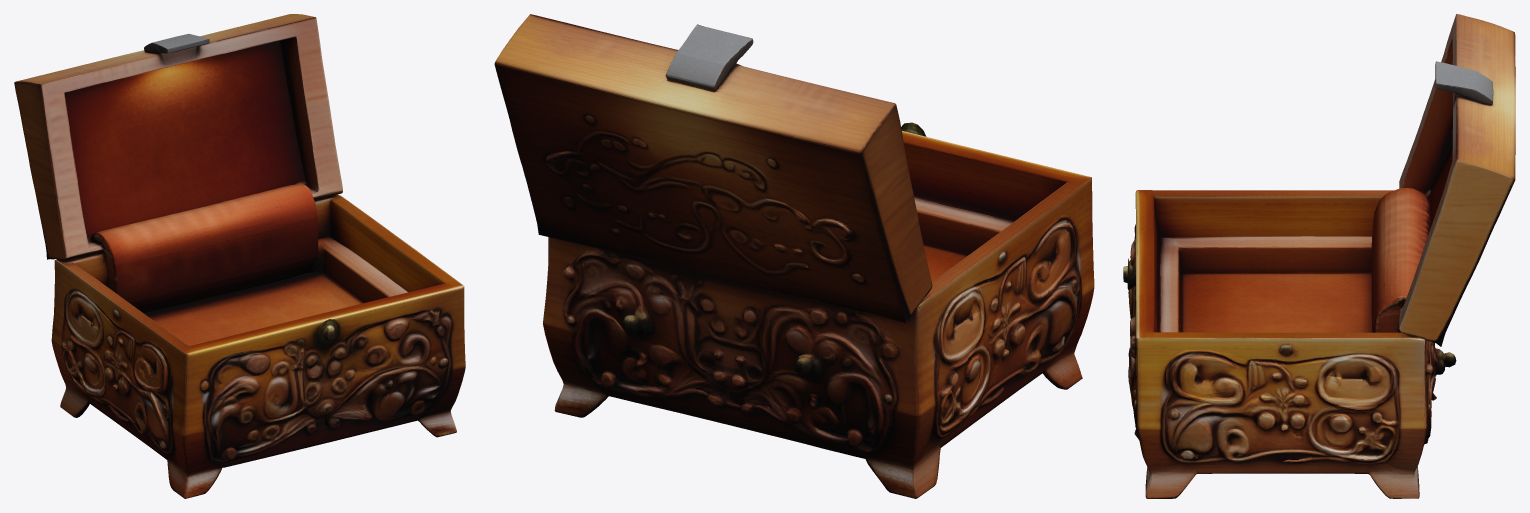
The model's file is wooden-musical-jewelry-box-rustic.jpeg.glb.
The picture shows the model from 3 angles, left to right: view 1: azimuth 30°, elevation 25°; view 2: azimuth 150°, elevation 25°; view 3: azimuth 270°, elevation 25°; orthographic projection. The views are drawn at different scales.
Parts seen in each view (by area): view 1: world; view 2: world; view 3: world.
Part boxes in pixels (box(x1,y1,x2,y2)): world: box(14, 14, 465, 498); world: box(494, 14, 1094, 498); world: box(1123, 14, 1515, 498).
Bounding box in the file's own units: 0.9429 × 0.9979 × 0.9999.
1 material, 1 textured.
